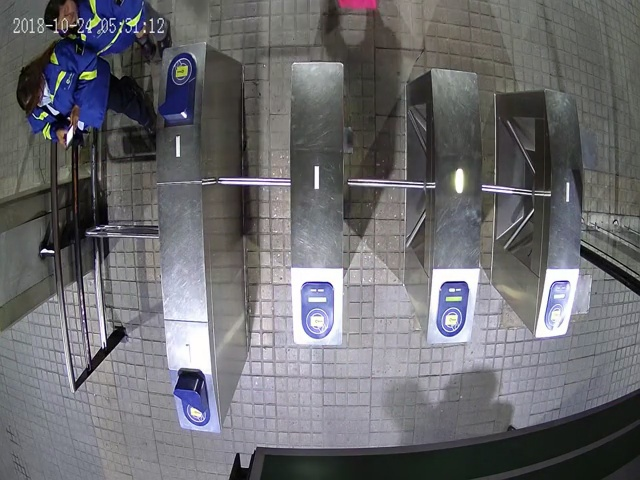Chaleco_azul: (16, 38, 157, 148), (43, 1, 175, 54)
